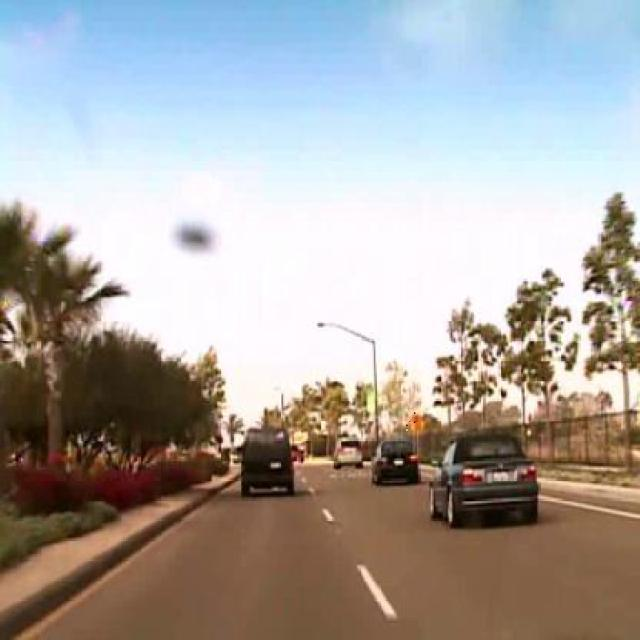signalAhead: (406, 411, 425, 434)
